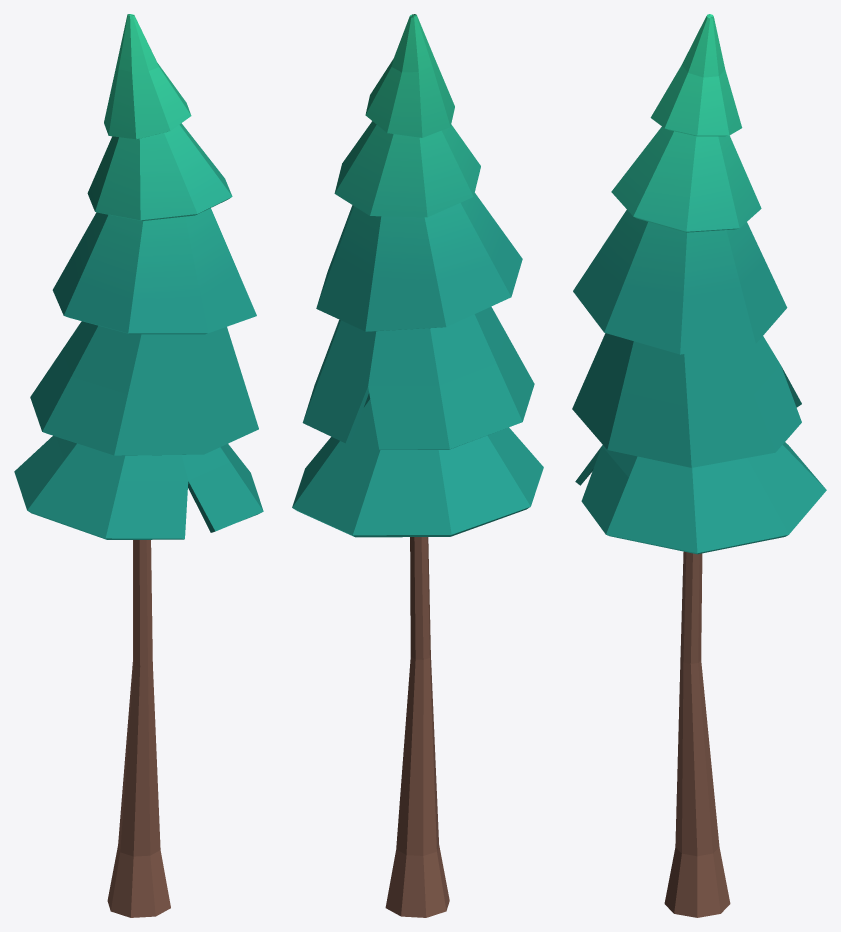
The model's file is tree07.obj.
The picture shows the model from 3 angles, left to right: view 1: azimuth 30°, elevation 25°; view 2: azimuth 150°, elevation 25°; view 3: azimuth 270°, elevation 25°; orthographic projection.
Parts seen in each view (by area): view 1: Cylinder.017_Cylinder.035; view 2: Cylinder.017_Cylinder.035; view 3: Cylinder.017_Cylinder.035.
Boxes of the visible parts, bbox=[...] form: Cylinder.017_Cylinder.035: bbox=[14, 14, 263, 917]; Cylinder.017_Cylinder.035: bbox=[292, 14, 543, 917]; Cylinder.017_Cylinder.035: bbox=[572, 14, 826, 917].
Bounding box in the file's own units: 6.22 × 23.54 × 6.12.
